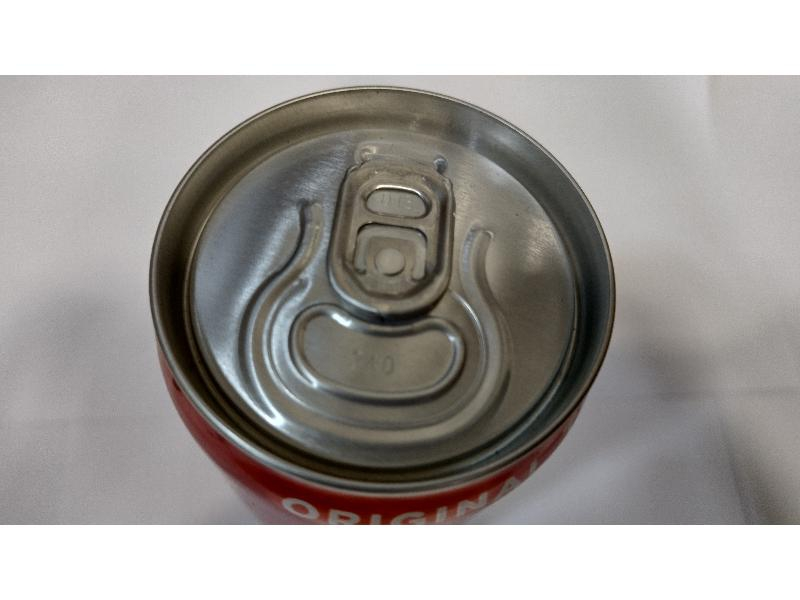can: (144, 83, 619, 515)
